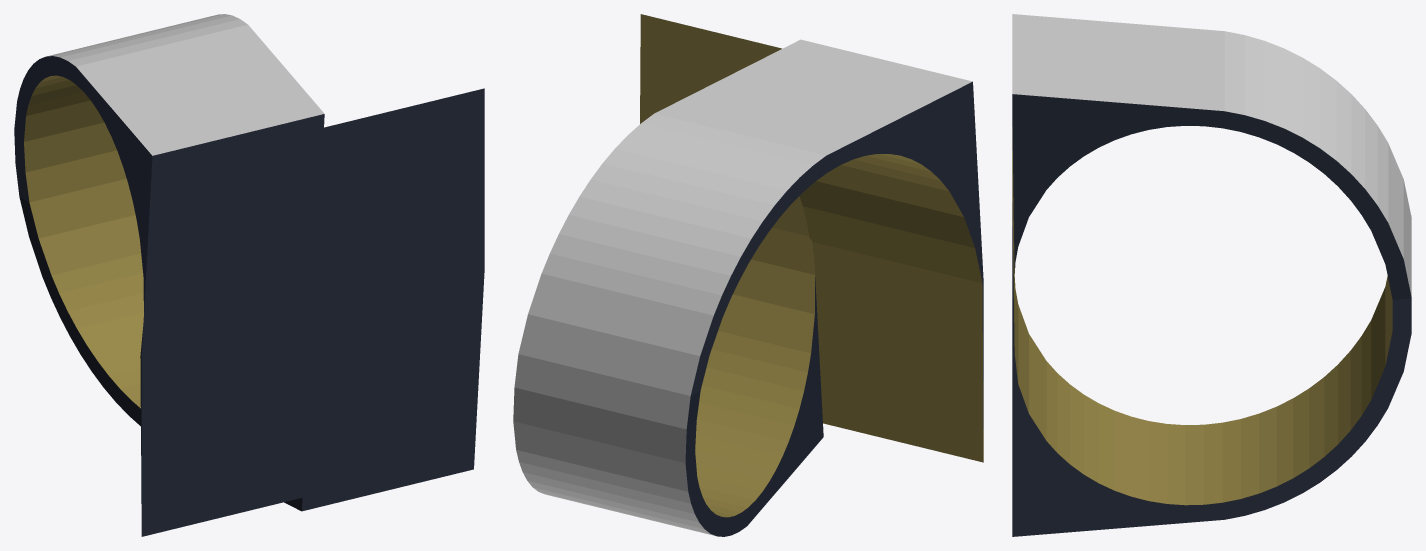
The model's file is Loop Left.fbx.
The picture shows the model from 3 angles, left to right: view 1: azimuth 30°, elevation 25°; view 2: azimuth 150°, elevation 25°; view 3: azimuth 270°, elevation 25°; orthographic projection. The views are drawn at different scales.
Parts seen in each view (by area): view 1: Loop Left; view 2: Loop Left; view 3: Loop Left.
Part boxes in pixels (left/top/right/bottom): Loop Left: left=14, top=14, right=484, bottom=536; Loop Left: left=513, top=14, right=983, bottom=536; Loop Left: left=1012, top=14, right=1411, bottom=536.
Size of the model in its own units: 1593 by 1740 by 1687.
